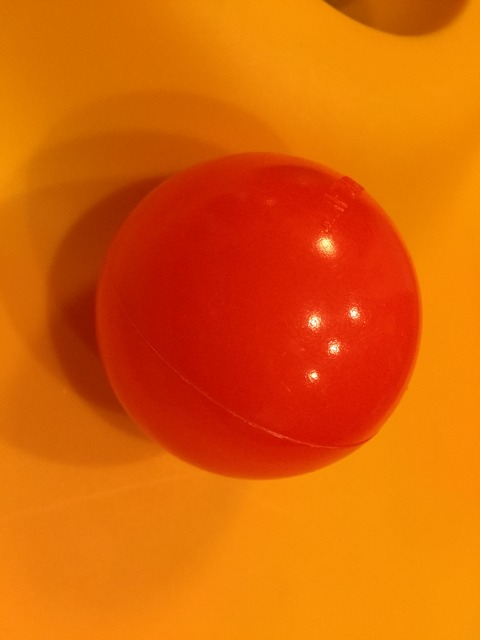Ball: (100, 155, 427, 488)
